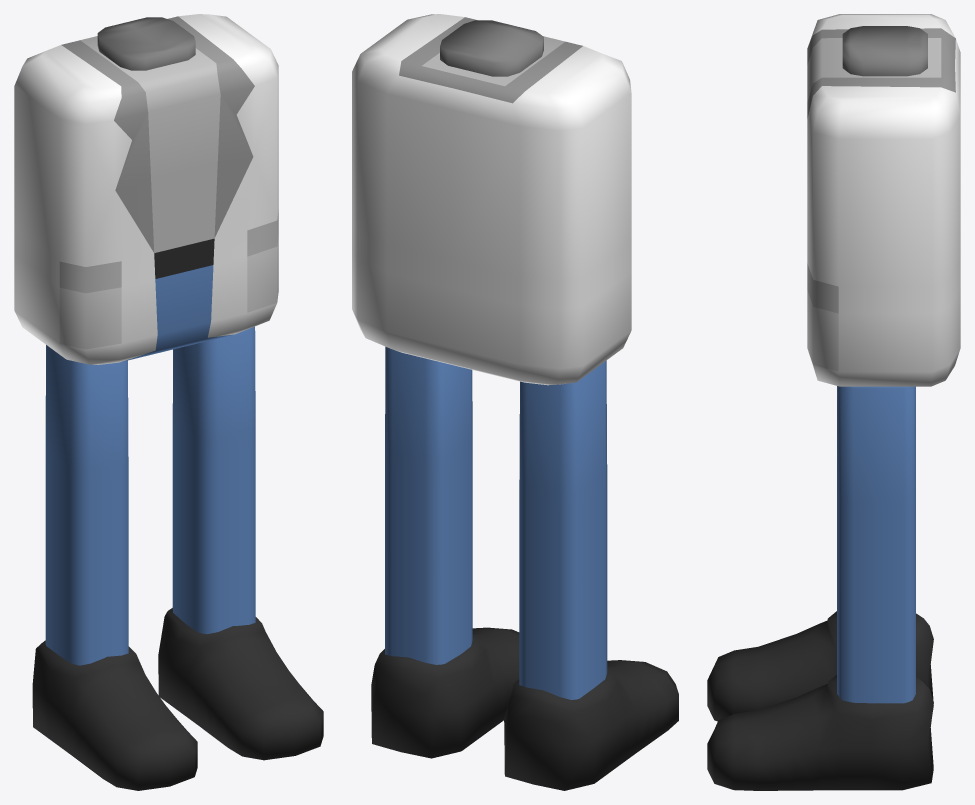
File: NPC_Body18.gltf
3 views of the same model, side by side, from view 1: azimuth 30°, elevation 25°; view 2: azimuth 150°, elevation 25°; view 3: azimuth 270°, elevation 25° (orthographic). The views are drawn at different scales.
Parts seen in each view (by area): view 1: NPC_Body.018; view 2: NPC_Body.018; view 3: NPC_Body.018.
Part boxes in pixels (x1,y1,x2,y2): NPC_Body.018: (14, 14, 323, 790); NPC_Body.018: (352, 14, 678, 790); NPC_Body.018: (707, 14, 960, 790).
Size of the model in its own units: 0.5348 by 1.57 by 0.518.
Materials: 1 (1 with a texture image).
